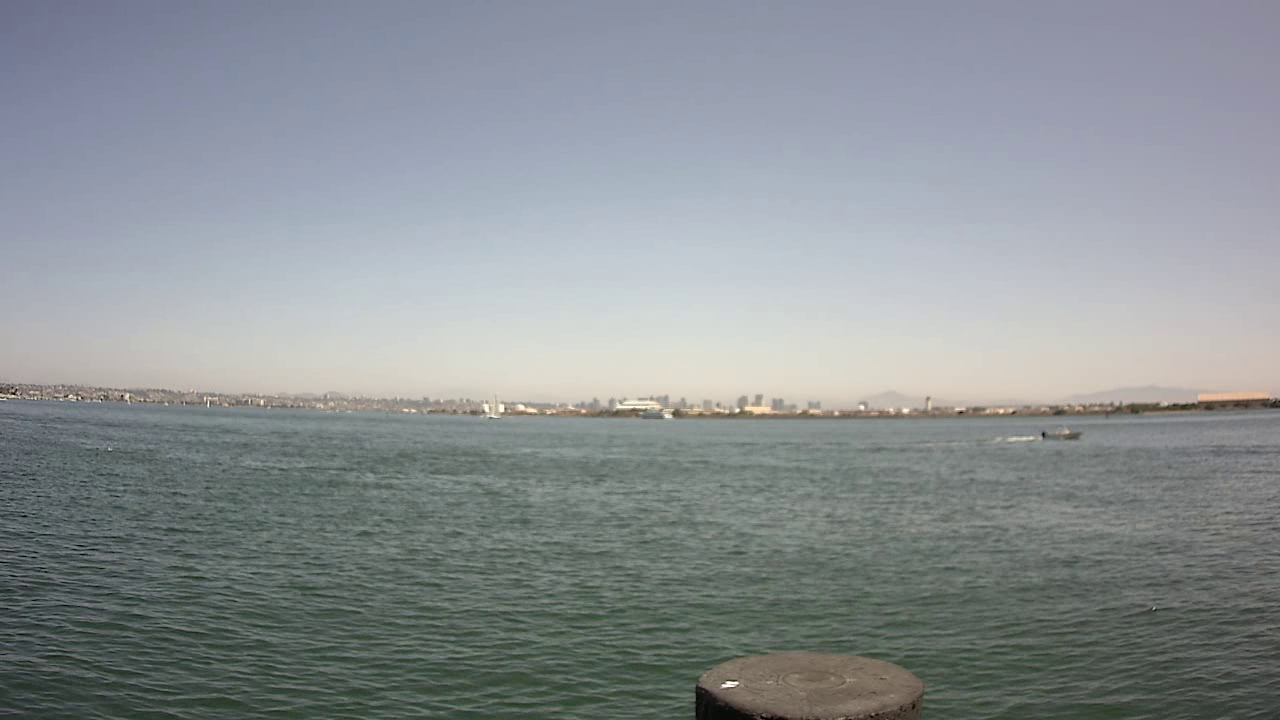target: (1024, 423, 1090, 449)
